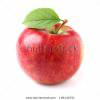Apple leaf: (19, 6, 64, 30)
